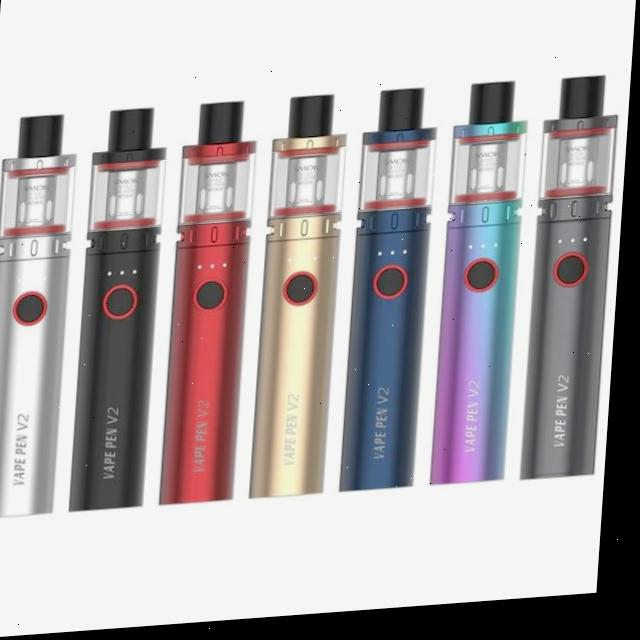vape: (165, 103, 262, 510), (256, 98, 353, 505), (527, 83, 624, 490), (76, 109, 173, 515), (346, 93, 443, 499), (436, 88, 533, 494), (0, 114, 83, 520)
